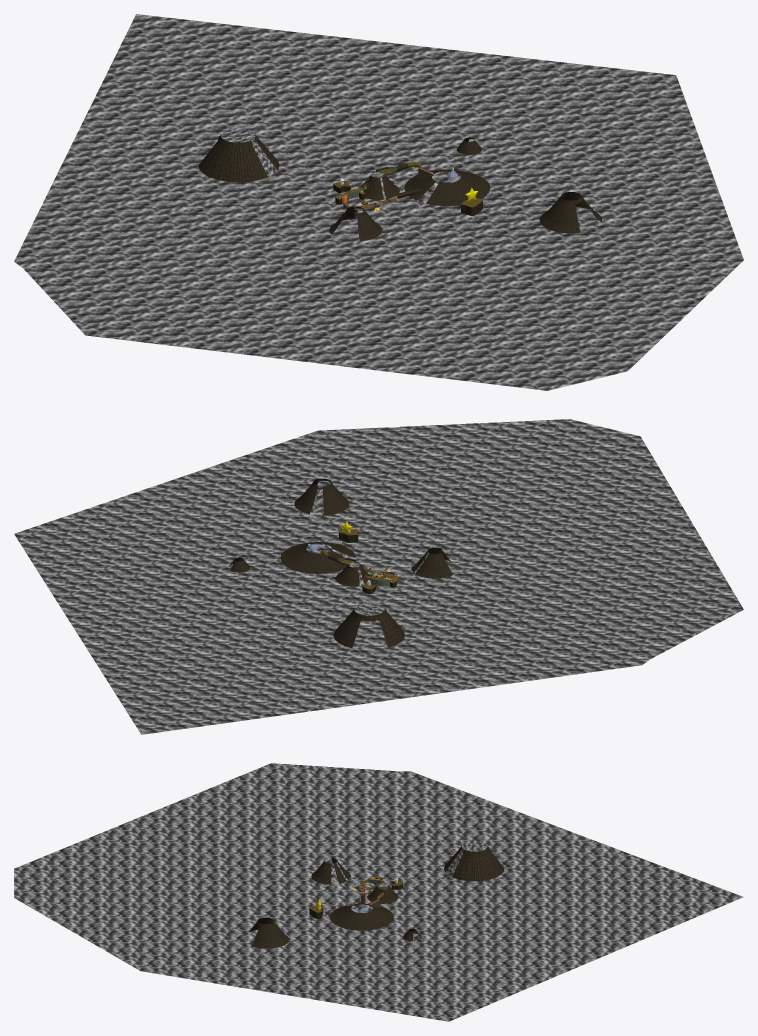
The picture shows the model from 3 angles, top to bottom: view 1: azimuth 30°, elevation 25°; view 2: azimuth 150°, elevation 25°; view 3: azimuth 270°, elevation 25°; orthographic projection. The views are drawn at different scales.
Parts seen in each view (by area): view 1: IF-SKP--VolSurface.001, IF-SKP--000A_2.001, IF-SKP--008C_1.001, IF-SKP--VolFall.001; view 2: IF-SKP--VolSurface.001, IF-SKP--000A_2.001, IF-SKP--008C_1.001, IF-SKP--VolFall.001; view 3: IF-SKP--VolSurface.001, IF-SKP--000A_2.001, IF-SKP--008C_1.001, IF-SKP--VolFall.001.
Part boxes in pixels (x1,y1,x2,y2): IF-SKP--VolSurface.001: [14, 14, 743, 390]; IF-SKP--000A_2.001: [198, 139, 490, 241]; IF-SKP--008C_1.001: [217, 134, 601, 233]; IF-SKP--VolFall.001: [221, 128, 565, 218]; IF-SKP--VolSurface.001: [14, 419, 743, 734]; IF-SKP--000A_2.001: [280, 531, 453, 648]; IF-SKP--008C_1.001: [229, 478, 442, 621]; IF-SKP--VolFall.001: [310, 486, 428, 615]; IF-SKP--VolSurface.001: [14, 763, 743, 1021]; IF-SKP--000A_2.001: [309, 849, 504, 930]; IF-SKP--008C_1.001: [244, 845, 489, 948]; IF-SKP--VolFall.001: [272, 840, 487, 937].
Size of the model in its own units: 736054 by 40463 by 878212.
Materials: 44 (44 with a texture image).
